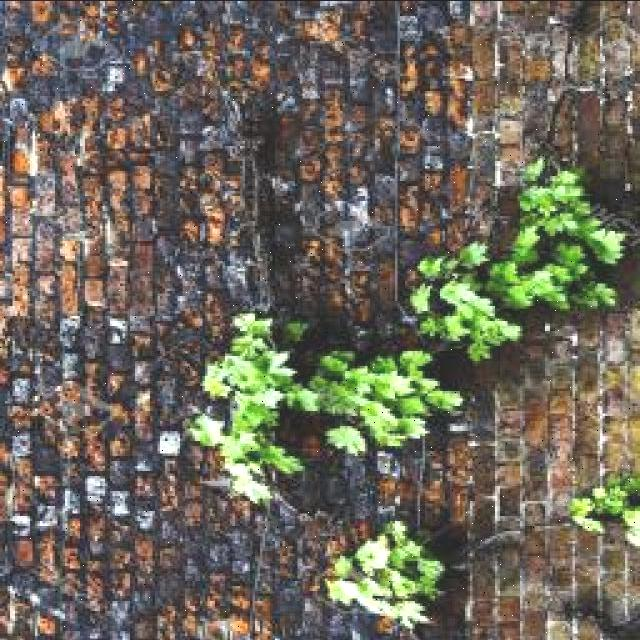crack: (1, 0, 638, 638), (0, 74, 27, 569), (388, 1, 404, 322)
dampness: (0, 442, 307, 640), (6, 0, 326, 150), (66, 50, 176, 326), (9, 172, 94, 346)
vegetation: (10, 135, 189, 631), (186, 310, 463, 510), (200, 313, 306, 427), (185, 408, 303, 506), (483, 255, 581, 313), (519, 165, 595, 224), (226, 312, 285, 358), (434, 280, 492, 320), (12, 118, 42, 184), (583, 223, 625, 264), (550, 240, 590, 273), (510, 224, 543, 259), (408, 280, 436, 320), (416, 254, 452, 283), (457, 241, 491, 270)
